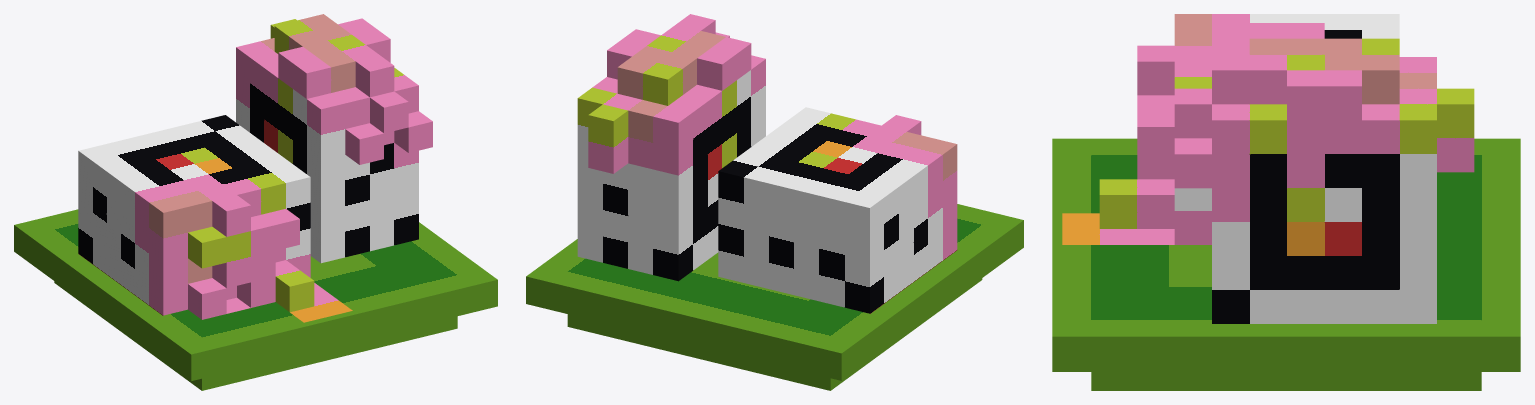
Rendered from SushiGood2.fbx.
The picture shows the model from 3 angles, left to right: view 1: azimuth 30°, elevation 25°; view 2: azimuth 150°, elevation 25°; view 3: azimuth 270°, elevation 25°; orthographic projection. The views are drawn at different scales.
Visible parts, largest first — view 1: SushiGood2; view 2: SushiGood2; view 3: SushiGood2.
Part boxes in pixels (x1,y1,x2,y2): SushiGood2: (14,14,497,390); SushiGood2: (526,14,1023,390); SushiGood2: (1052,14,1520,390).
Bounding box in the file's own units: 1.18 × 0.8621 × 1.18.
